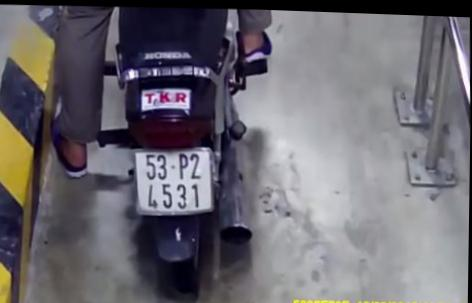LP: (130, 144, 221, 218)
